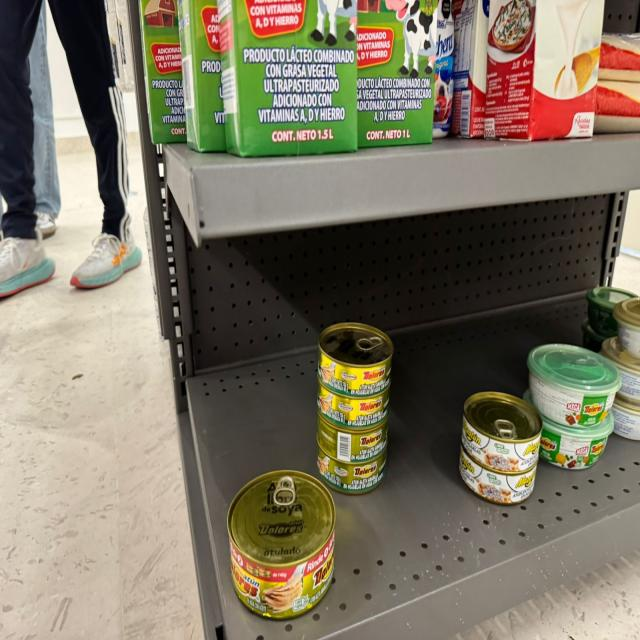ATUN DOLORES EN ACEITE 130GRS: (318, 323, 394, 399), (316, 435, 387, 494), (317, 378, 391, 431), (317, 409, 389, 463)
Atun Dolores aceite 295gr lata: (227, 470, 336, 619)
Atun Mazatun Agua Sin Soya 130grs: (461, 392, 543, 473), (458, 443, 537, 506)
Azucar Estandar La Posada 1 kg: (593, 79, 640, 134), (598, 35, 640, 83)
CARNATION Leche Evaporada 720g: (484, 0, 604, 142), (450, 0, 489, 139)
DOLORES ENSALADA CON VERDURAS MAXI CUP CAN 240gr: (527, 343, 622, 429), (538, 412, 614, 469), (523, 389, 530, 402)
Dolores SURFY Cup Can Elotitos 24135 gr: (600, 337, 640, 402), (613, 297, 640, 358), (612, 393, 640, 440)
Ensalada Atun Mazatun CupCan: (582, 286, 637, 351)
La Lechera Sirve Facil 335gr Bote: (434, 0, 454, 138)
PLC NUTRALAT FORTE 1 LT: (358, 0, 438, 148)
PLC NUTRALAT FORTE 1.5 LT: (218, 0, 357, 156), (179, 0, 226, 152), (139, 0, 186, 143)
